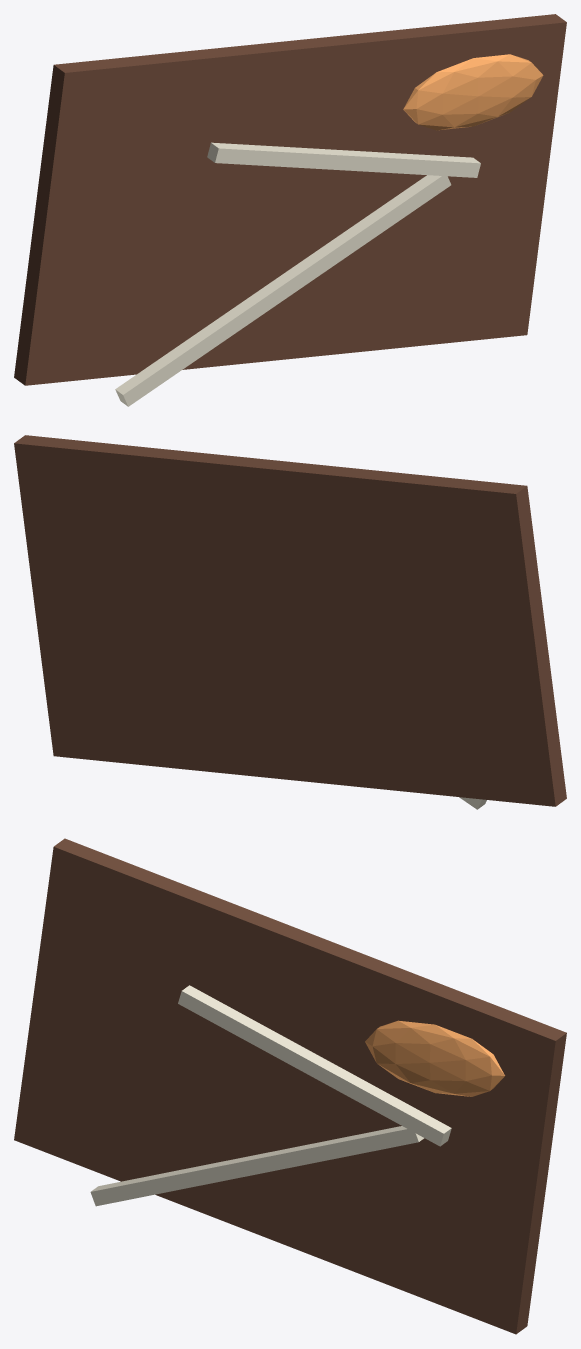
The model's file is 04_weathering_wear_overlay_4.glb.
3 renders of one model, top to bottom at view 1: azimuth 30°, elevation 25°; view 2: azimuth 150°, elevation 25°; view 3: azimuth 330°, elevation 25°, orthographic.
Parts seen in each view (by area): view 1: wear_plate, scratch_a, rust_or_moss_spot, scratch_b; view 2: wear_plate; view 3: wear_plate, rust_or_moss_spot, scratch_b, scratch_a.
Part boxes in pixels (x1,y1,x2,y2): wear_plate: (14, 14, 566, 385); scratch_a: (115, 175, 451, 406); rust_or_moss_spot: (403, 54, 543, 130); scratch_b: (207, 142, 480, 177); wear_plate: (14, 435, 566, 806); wear_plate: (14, 838, 566, 1334); rust_or_moss_spot: (365, 1020, 504, 1096); scratch_b: (178, 985, 451, 1146); scratch_a: (90, 1126, 424, 1206).
Bounding box in the file's own units: 1.39 × 0.9192 × 0.134.
